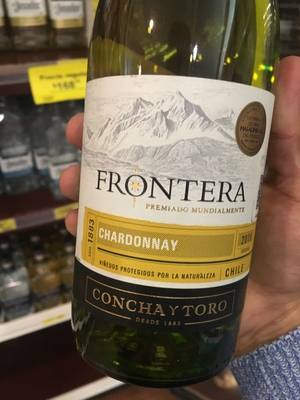frontera chardonnay: (63, 13, 273, 373)
